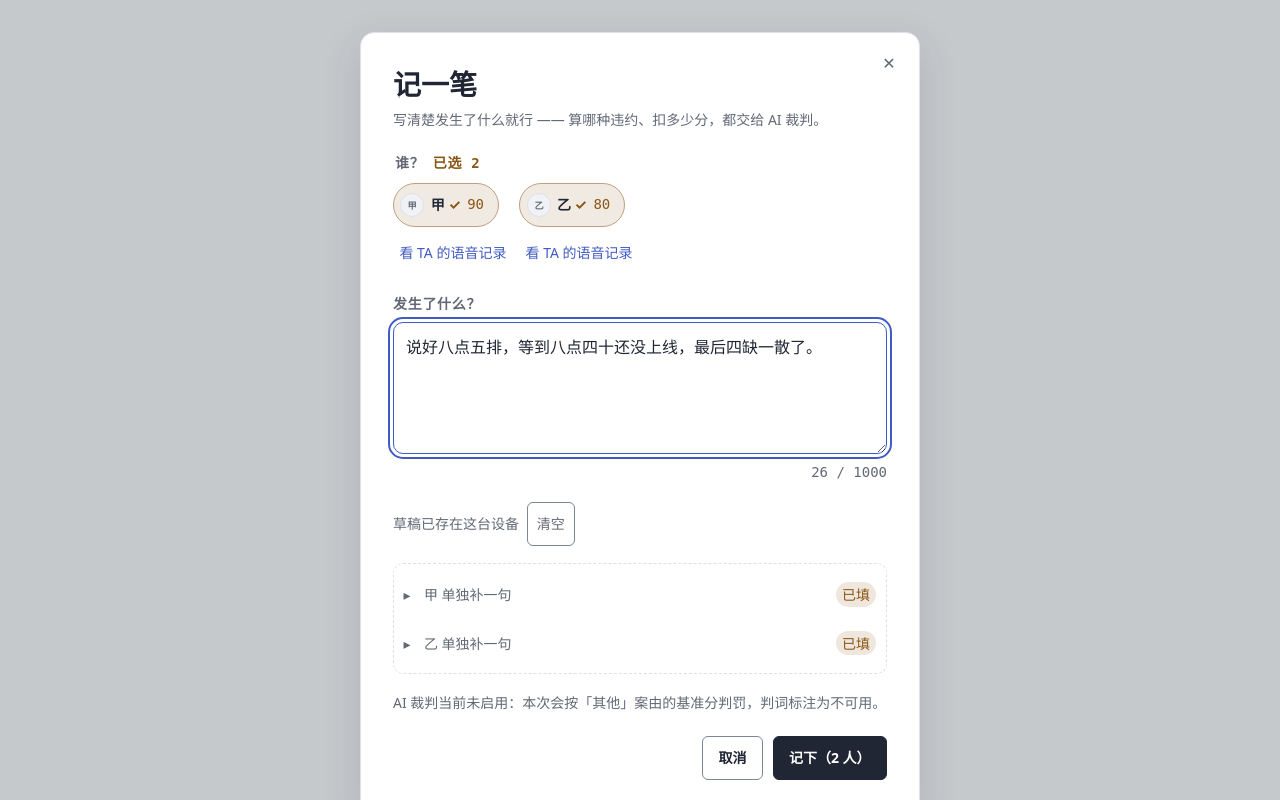
Test: CaseDialog — draft › keeps only the people who were not filed after a partial success
Click the button "记下（2 人）". click: (830, 758)
box: x1=773 y1=736 x2=887 y2=780
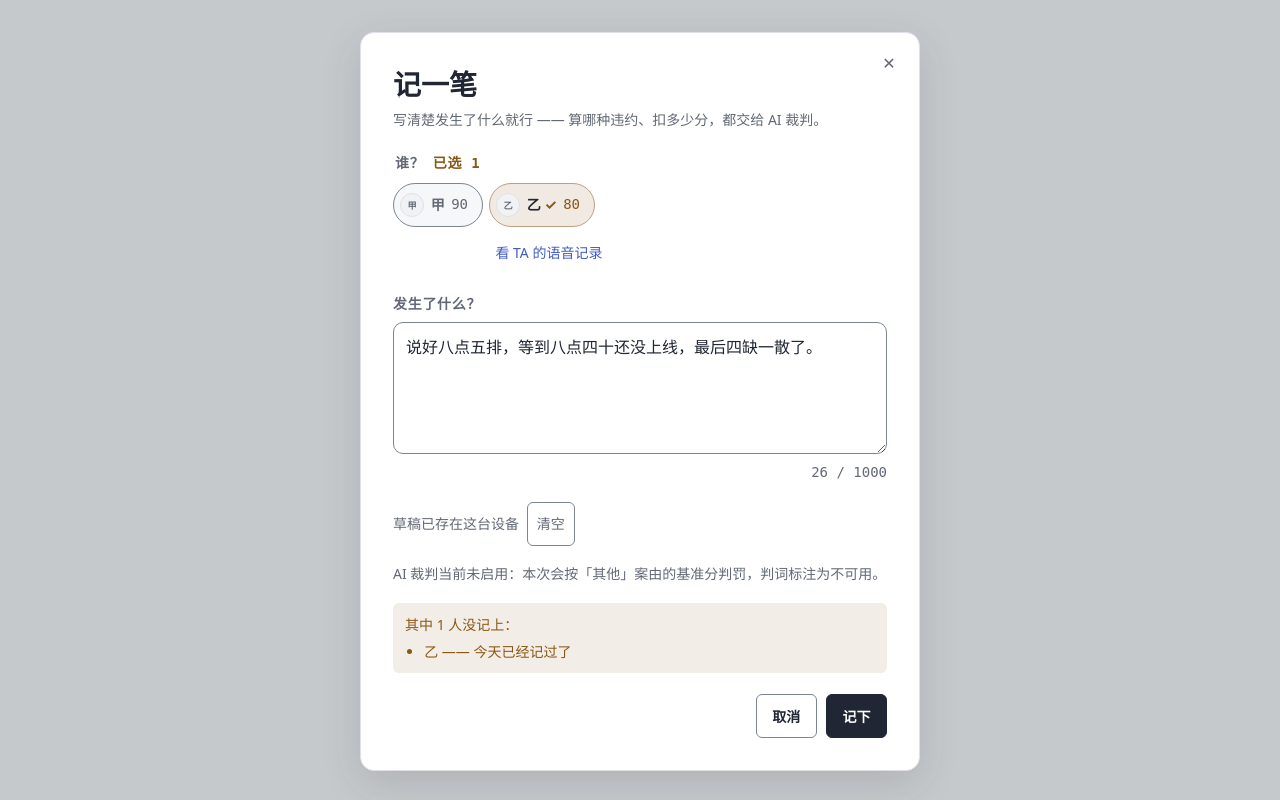
Expected: the text "其中 1 人没记上：" is shown, x1=405 y1=615 x2=518 y2=634
